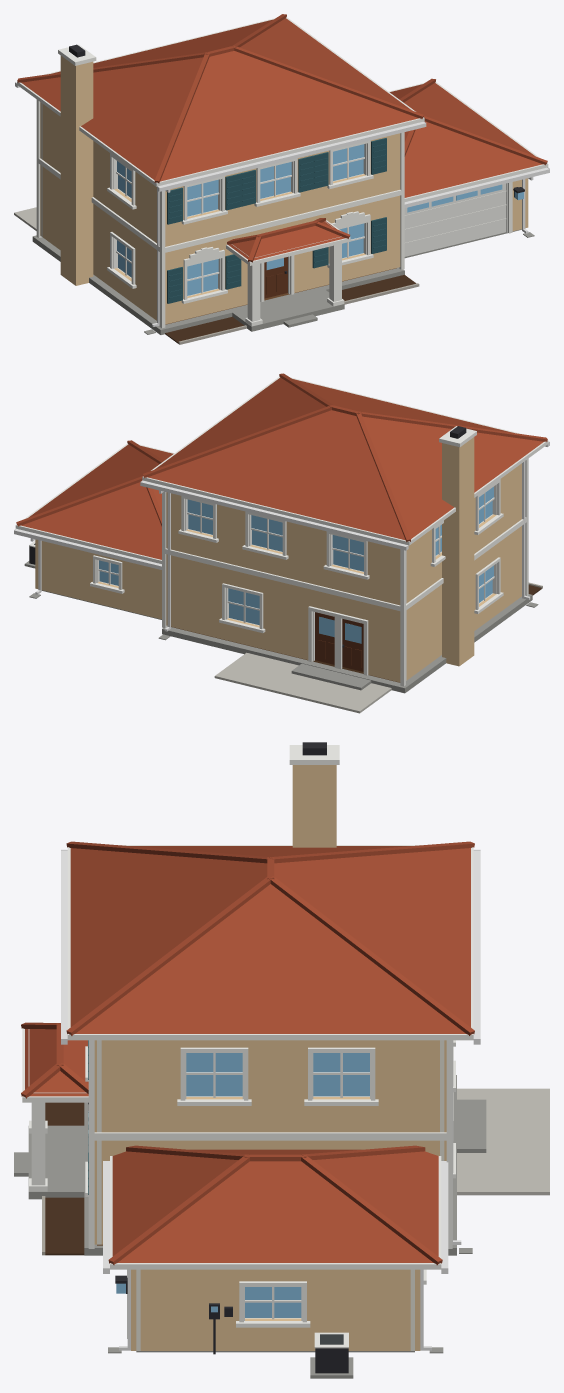
Rendered from TwoStory.glb.
3 views of the same model, one above another, from view 1: azimuth 30°, elevation 25°; view 2: azimuth 150°, elevation 25°; view 3: azimuth 270°, elevation 25° (orthographic). The views are drawn at different scales.
Parts seen in each view (by area): view 1: TwoStory_Roof, TwoStory_WallsOut, TwoStory_Trim, TwoStory_Foundation, TwoStory_Shutter, TwoStory_GarageDoor1, TwoStory_Gutter, TwoStory_Glass, TwoStory_Mulch, TwoStory_Door1, TwoStory_Edging, TwoStory_GarageGlass1 (+5 smaller); view 2: TwoStory_Roof, TwoStory_WallsOut, TwoStory_Trim, TwoStory_Patio, TwoStory_Foundation, TwoStory_Gutter, TwoStory_Glass, TwoStory_Door2, TwoStory_Door3, TwoStory_Sash6, TwoStory_Sash7, TwoStory_Sash8; view 3: TwoStory_Roof, TwoStory_WallsOut, TwoStory_Trim, TwoStory_Patio, TwoStory_Foundation, TwoStory_Gutter, TwoStory_Mulch, TwoStory_Glass, TwoStory_WallsIn, TwoStory_Metal, TwoStory_Sash13, TwoStory_Sash14 (+1 smaller).
Part boxes in pixels (left/top/right/bottom): TwoStory_Roof: left=17, top=14, right=547, bottom=262; TwoStory_WallsOut: left=40, top=55, right=528, bottom=324; TwoStory_Trim: left=17, top=17, right=548, bottom=328; TwoStory_Foundation: left=32, top=229, right=534, bottom=334; TwoStory_Shutter: left=167, top=138, right=386, bottom=303; TwoStory_GarageDoor1: left=404, top=183, right=506, bottom=256; TwoStory_Gutter: left=15, top=82, right=549, bottom=326; TwoStory_Glass: left=117, top=144, right=523, bottom=279; TwoStory_Mulch: left=165, top=275, right=416, bottom=343; TwoStory_Door1: left=264, top=257, right=287, bottom=298; TwoStory_Edging: left=178, top=283, right=419, bottom=344; TwoStory_GarageGlass1: left=407, top=184, right=502, bottom=212; TwoStory_Roof: left=16, top=373, right=547, bottom=559; TwoStory_WallsOut: left=35, top=437, right=521, bottom=682; TwoStory_Trim: left=15, top=376, right=548, bottom=686; TwoStory_Patio: left=214, top=652, right=391, bottom=713; TwoStory_Foundation: left=24, top=561, right=538, bottom=693; TwoStory_Gutter: left=14, top=441, right=549, bottom=631; TwoStory_Glass: left=99, top=486, right=493, bottom=608; TwoStory_Door2: left=342, top=619, right=363, bottom=671; TwoStory_Door3: left=315, top=612, right=334, bottom=664; TwoStory_Sash6: left=229, top=603, right=259, bottom=625; TwoStory_Sash7: left=333, top=550, right=363, bottom=571; TwoStory_Sash8: left=252, top=530, right=282, bottom=551; TwoStory_Roof: left=21, top=841, right=474, bottom=1265; TwoStory_WallsOut: left=94, top=765, right=446, bottom=1350; TwoStory_Trim: left=22, top=745, right=473, bottom=1348; TwoStory_Patio: left=457, top=1088, right=549, bottom=1195; TwoStory_Foundation: left=14, top=1075, right=486, bottom=1378; TwoStory_Gutter: left=61, top=849, right=480, bottom=1350; TwoStory_Mulch: left=45, top=1102, right=84, bottom=1255; TwoStory_Glass: left=116, top=1053, right=369, bottom=1312; TwoStory_WallsIn: left=97, top=1040, right=444, bottom=1350; TwoStory_Metal: left=88, top=742, right=348, bottom=1373; TwoStory_Sash13: left=186, top=1075, right=242, bottom=1096; TwoStory_Sash14: left=313, top=1075, right=369, bottom=1096.
Bounding box in the file's own units: 74.2 × 37.68 × 54.8.
